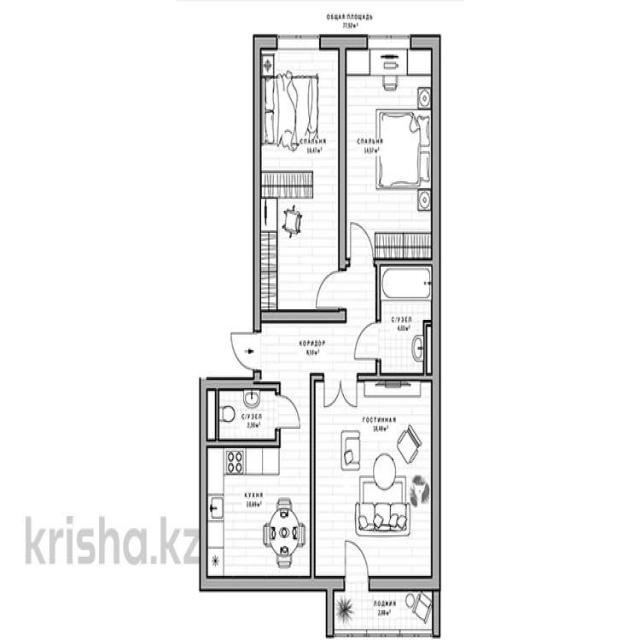balcony: (331, 582, 434, 634)
bathroom: (374, 265, 436, 377), (202, 381, 280, 444)
hallway: (254, 324, 372, 374)
kitchen: (203, 451, 311, 580)
living_room: (314, 382, 436, 574), (262, 42, 341, 315), (346, 46, 435, 255)
